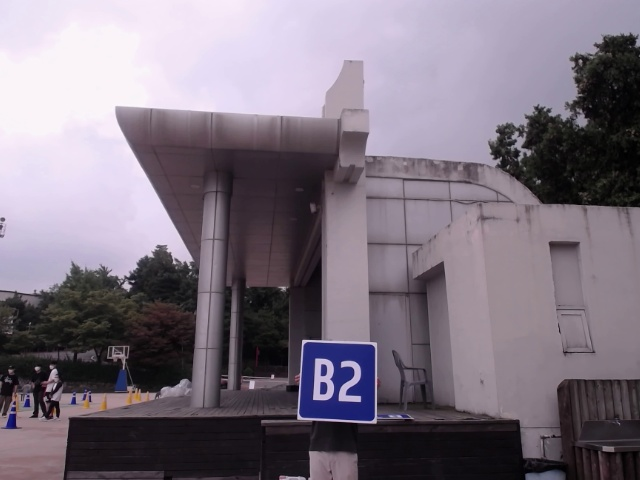delivery_b2: (297, 339, 378, 423)
